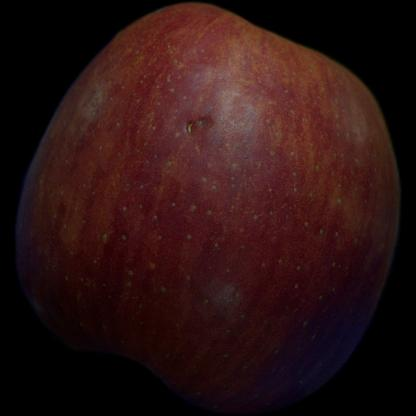defect: (168, 101, 244, 157)
